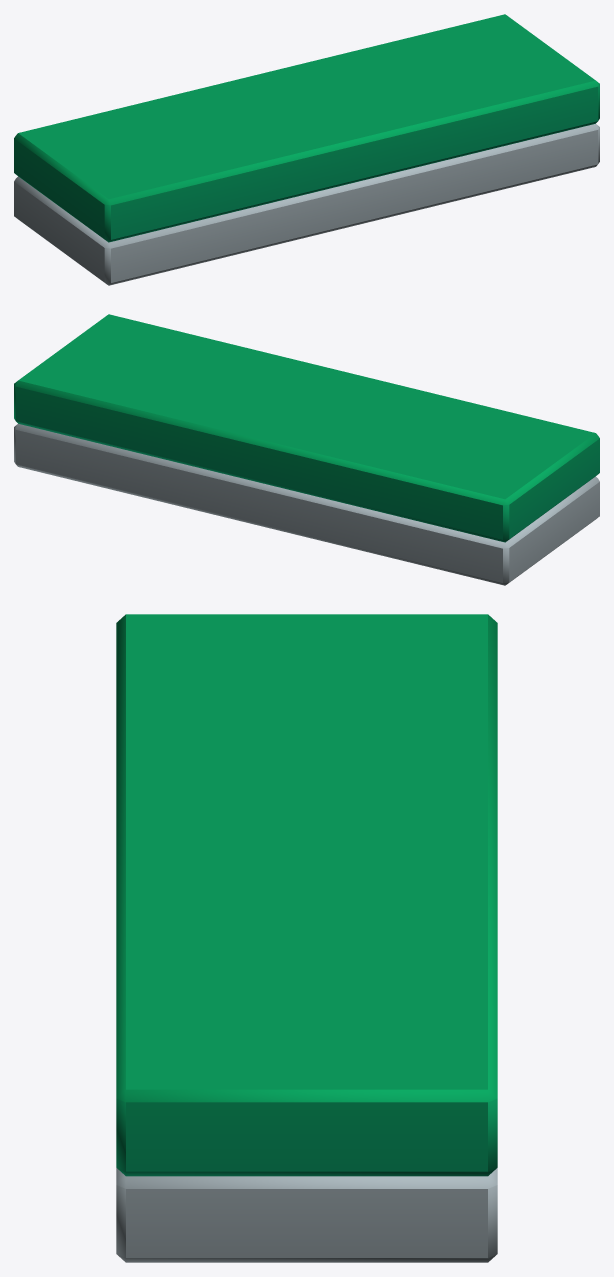
File: kaykit_platform_6x2x1_green.glb
The picture shows the model from 3 angles, top to bottom: view 1: azimuth 30°, elevation 25°; view 2: azimuth 150°, elevation 25°; view 3: azimuth 270°, elevation 25°; orthographic projection. The views are drawn at different scales.
Parts seen in each view (by area): view 1: platform_6x2x1_green_visual; view 2: platform_6x2x1_green_visual; view 3: platform_6x2x1_green_visual.
Boxes of the visible parts, x1,y1,x2,y2 form: platform_6x2x1_green_visual: [14, 14, 599, 285]; platform_6x2x1_green_visual: [14, 314, 599, 585]; platform_6x2x1_green_visual: [116, 614, 497, 1262].
Size of what is drawn, in the model's own units: 6 by 1 by 2.
Materials: 1 (1 with a texture image).
